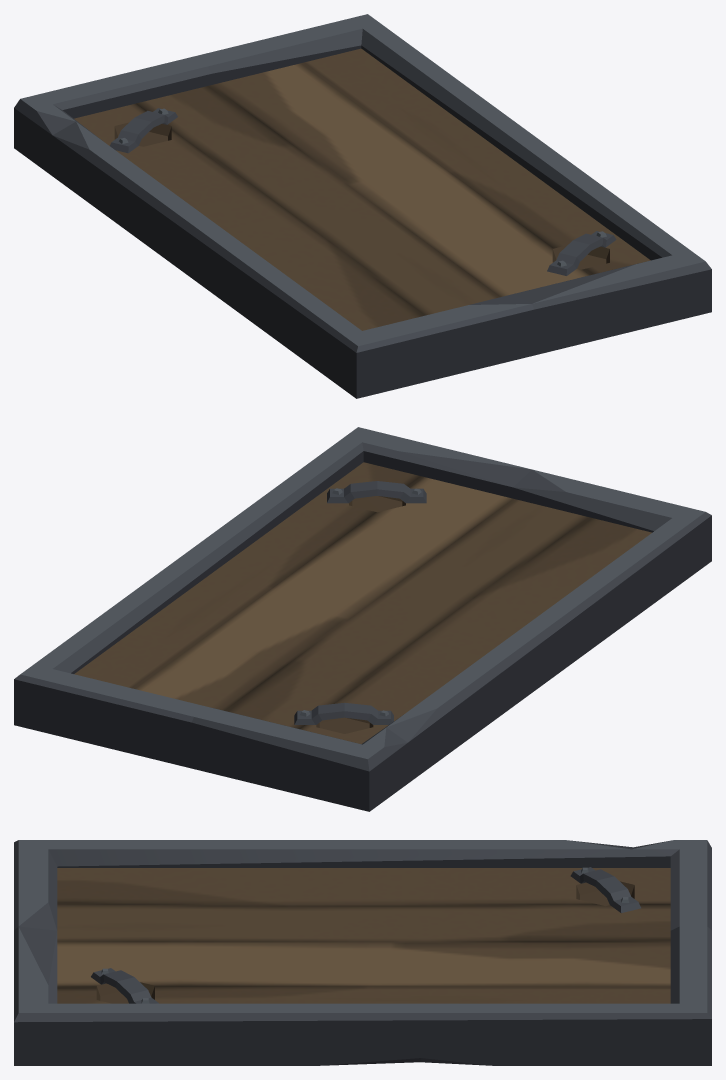
Rendered from SM_Veh_Ship_Grate_03.fbx.
The picture shows the model from 3 angles, top to bottom: view 1: azimuth 30°, elevation 25°; view 2: azimuth 150°, elevation 25°; view 3: azimuth 270°, elevation 25°; orthographic projection.
Parts seen in each view (by area): view 1: SM_Veh_Ship_Grate_03; view 2: SM_Veh_Ship_Grate_03; view 3: SM_Veh_Ship_Grate_03.
Boxes of the visible parts, x1,y1,x2,y2 form: SM_Veh_Ship_Grate_03: (14, 14, 711, 398); SM_Veh_Ship_Grate_03: (14, 427, 711, 811); SM_Veh_Ship_Grate_03: (14, 840, 711, 1065).
Size of the model in its own units: 259 by 36.74 by 433.
